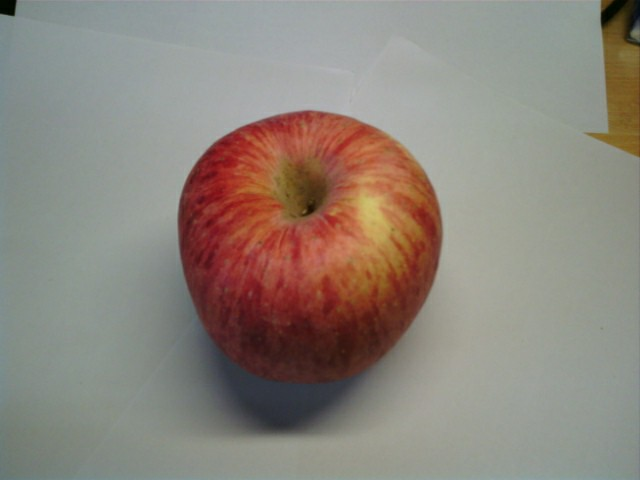normal_apple: (176, 113, 442, 387)
